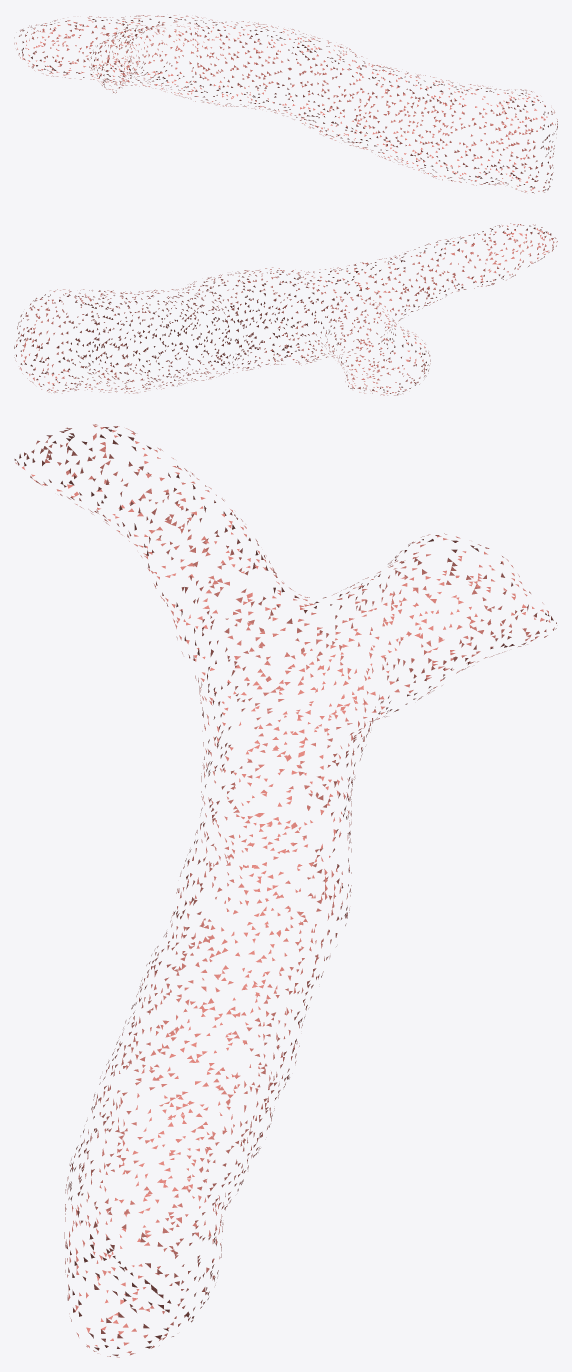
File: morph_001.glb
The picture shows the model from 3 angles, top to bottom: view 1: azimuth 30°, elevation 25°; view 2: azimuth 150°, elevation 25°; view 3: azimuth 270°, elevation 25°; orthographic projection. The views are drawn at different scales.
Size of the model in its own units: 128 by 66.06 by 63.54.
